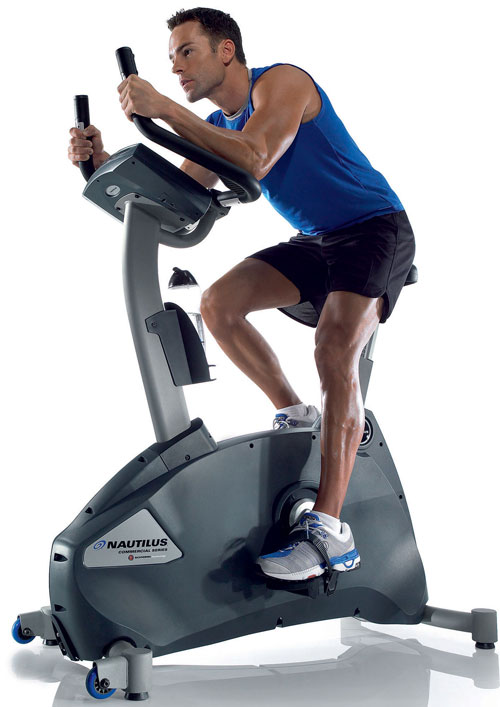gym_bike: (15, 72, 500, 697)
